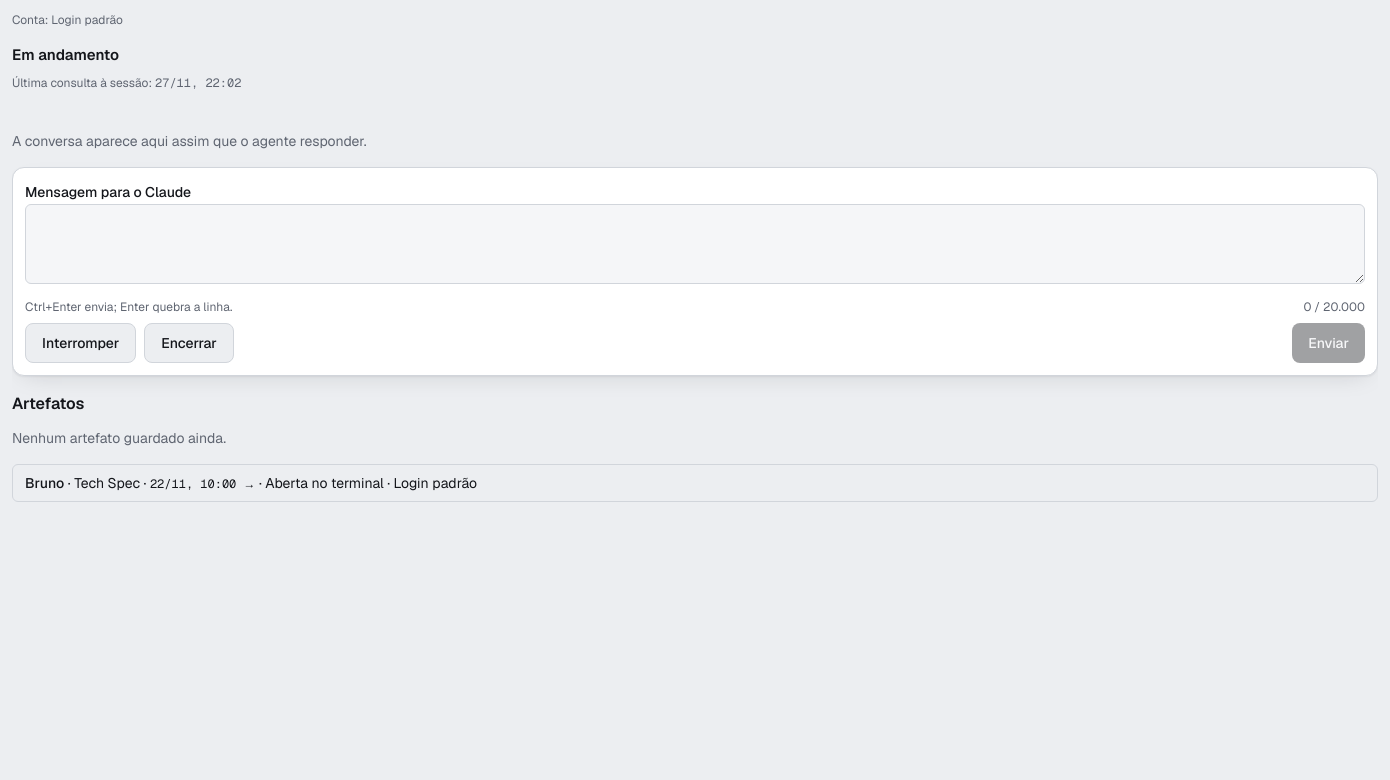
Test: ExecutionStage sessions by runtime › V-28h lists an old terminal session in the history as Aberta no terminal, with its events and no field
This screenshot has width=1390, height=780.
Click the button "Bruno" at x=45, y=482, box [13,464,1377,500]
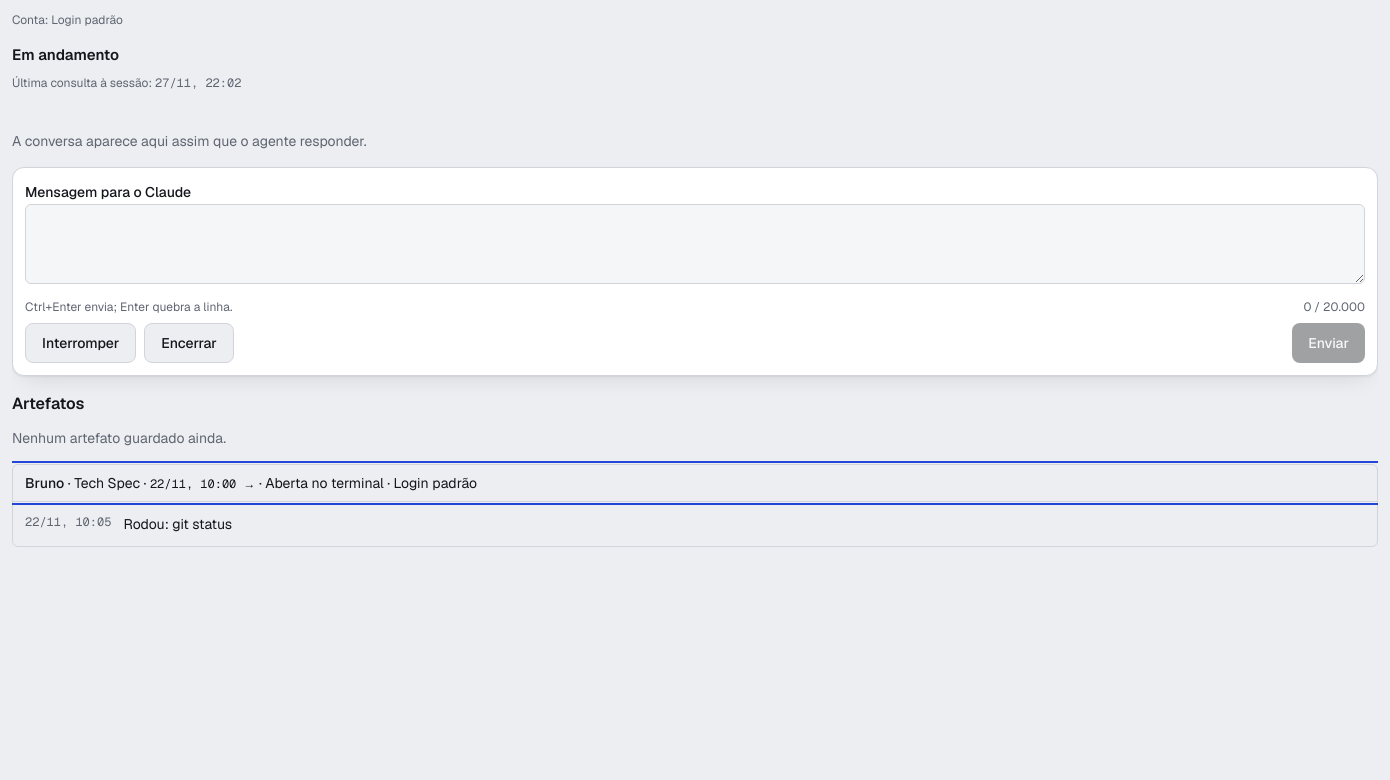
Check: the text "Rodou: git status" is shown, box [123,514,232,534]
